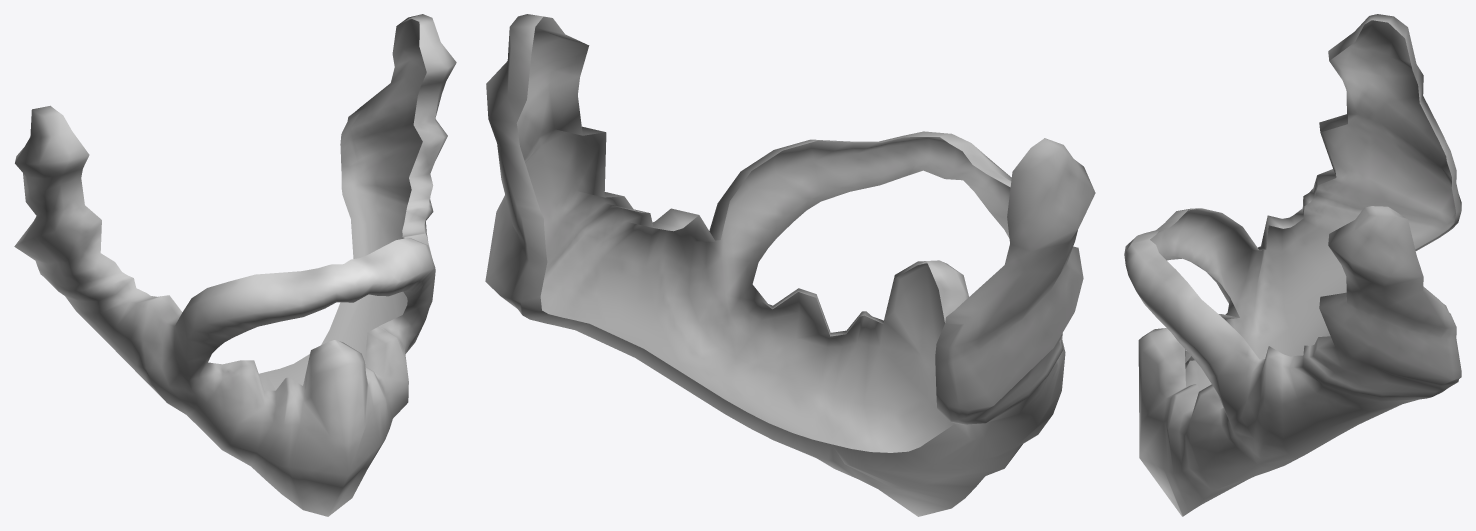
The model's file is hair-beard.glb.
3 renders of one model, left to right at view 1: azimuth 30°, elevation 25°; view 2: azimuth 150°, elevation 25°; view 3: azimuth 270°, elevation 25°, orthographic. The views are drawn at different scales.
Parts seen in each view (by area): view 1: hair-beard; view 2: hair-beard; view 3: hair-beard.
Boxes of the visible parts, x1,y1,x2,y2 form: hair-beard: (14,14,456,516); hair-beard: (485,14,1095,516); hair-beard: (1124,14,1461,516).
Bounding box in the file's own units: 0.1615 × 0.1382 × 0.1046.
Materials: 1 (1 with a texture image).
